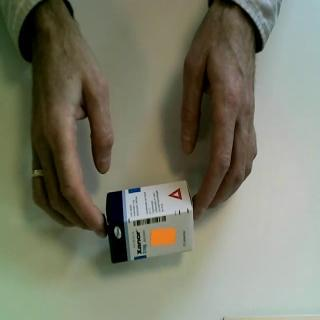xanor2mg: (104, 178, 196, 266)
